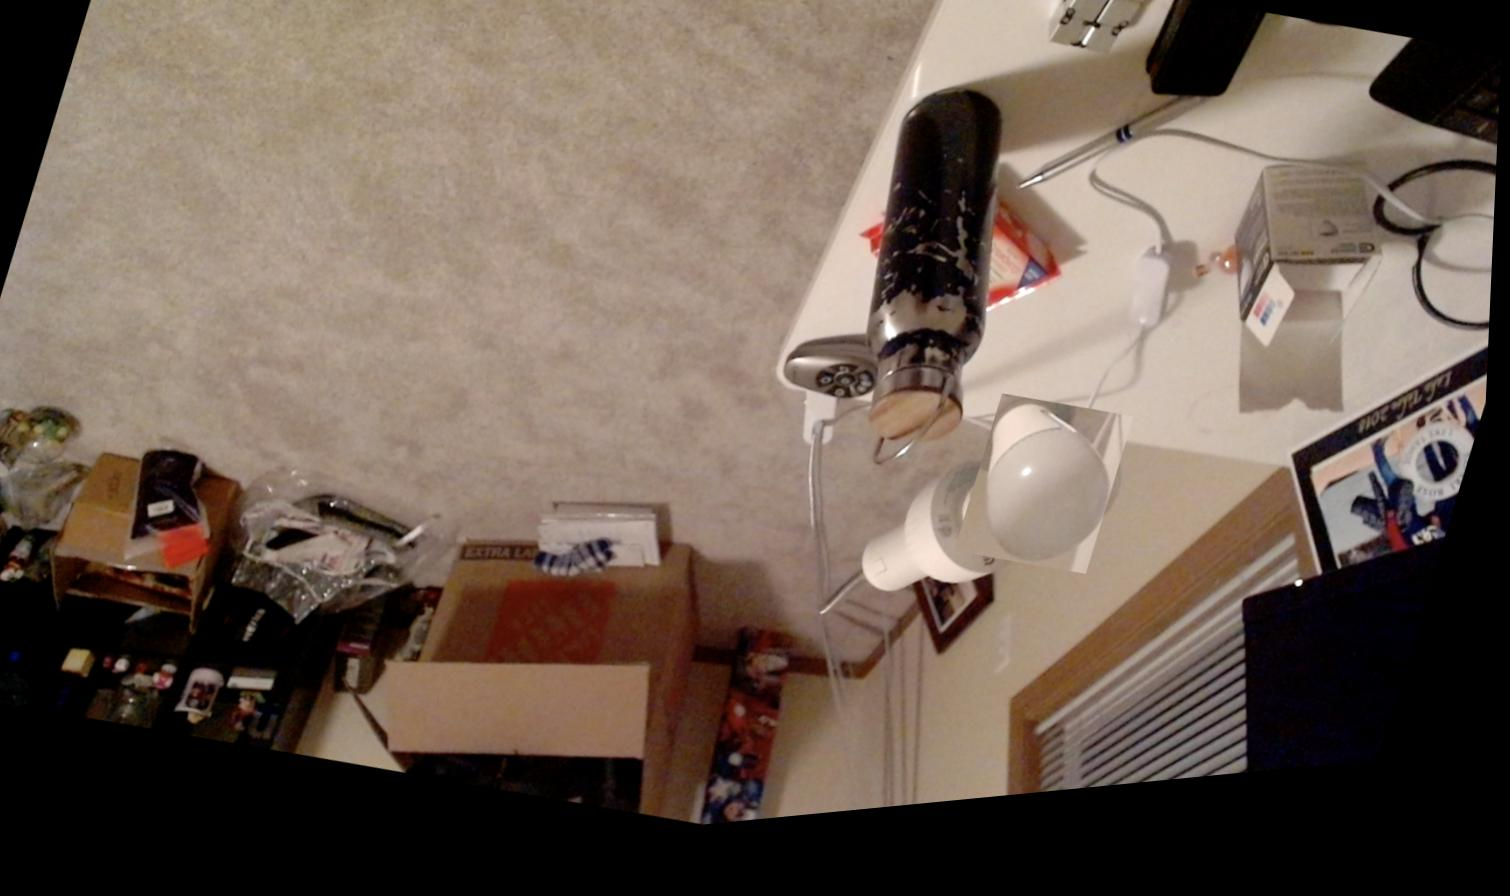Fan: (955, 407, 1144, 604)
